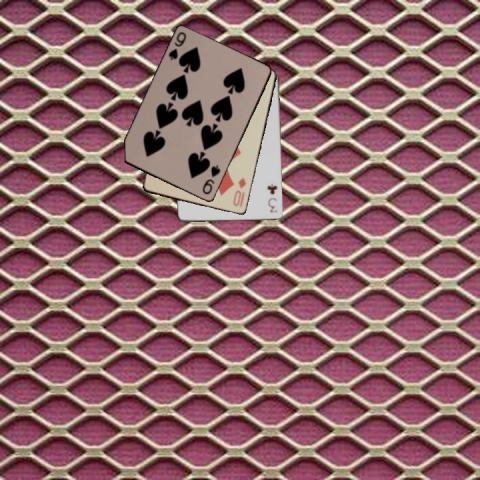10d: (230, 175, 247, 208)
3c: (264, 181, 279, 214)
9s: (199, 163, 222, 196), (165, 29, 188, 62)
